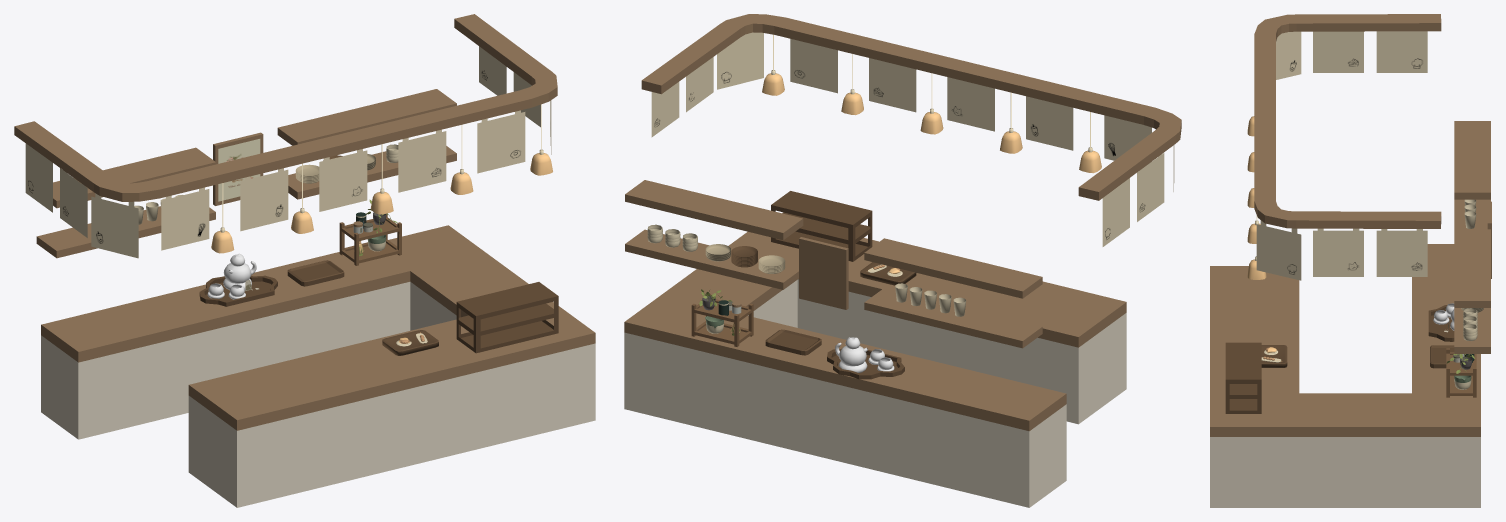
Rendered from counter.fbx.
3 renders of one model, left to right at view 1: azimuth 30°, elevation 25°; view 2: azimuth 150°, elevation 25°; view 3: azimuth 270°, elevation 25°, orthographic. The views are drawn at different scales.
Parts seen in each view (by area): view 1: counter, cloth, wooden fixture, shelf, display shelf, lamps, picture frame, rack, cloud tray, main tray, tray, bowl; view 2: counter, cloth, shelf, wooden fixture, display shelf, picture frame, lamps, rack, plates, cups, main tray, cloud tray (+3 smaller); view 3: counter, cloth, wooden fixture, shelf, display shelf, rack, lamps, cloud tray, bowls, tray, main tray, cups.
Boxes of the visible parts, x1=… form: counter: x1=41, y1=225, x2=595, y2=507; cloth: x1=25, y1=46, x2=551, y2=258; wooden fixture: x1=14, y1=14, x2=557, y2=201; shelf: x1=36, y1=89, x2=456, y2=258; display shelf: x1=456, y1=282, x2=558, y2=353; lamps: x1=211, y1=104, x2=552, y2=253; picture frame: x1=213, y1=132, x2=263, y2=205; rack: x1=339, y1=214, x2=401, y2=265; cloud tray: x1=199, y1=275, x2=277, y2=306; main tray: x1=287, y1=260, x2=344, y2=286; tray: x1=382, y1=330, x2=438, y2=355; bowl: x1=223, y1=253, x2=256, y2=289; counter: x1=624, y1=232, x2=1126, y2=507; cloth: x1=651, y1=32, x2=1174, y2=246; shelf: x1=625, y1=180, x2=1042, y2=348; wooden fixture: x1=641, y1=14, x2=1181, y2=200; display shelf: x1=771, y1=191, x2=872, y2=261; picture frame: x1=799, y1=237, x2=848, y2=309; lamps: x1=762, y1=34, x2=1101, y2=173; rack: x1=691, y1=293, x2=753, y2=346; plates: x1=705, y1=244, x2=785, y2=273; cups: x1=895, y1=283, x2=966, y2=316; main tray: x1=765, y1=329, x2=821, y2=355; cloud tray: x1=827, y1=348, x2=904, y2=379; counter: x1=1210, y1=244, x2=1480, y2=507; cloth: x1=1256, y1=31, x2=1427, y2=280; wooden fixture: x1=1254, y1=14, x2=1441, y2=228; shelf: x1=1454, y1=121, x2=1490, y2=353; display shelf: x1=1225, y1=342, x2=1261, y2=413; rack: x1=1446, y1=348, x2=1476, y2=397; lamps: x1=1247, y1=116, x2=1266, y2=279; cloud tray: x1=1428, y1=305, x2=1454, y2=341; bowls: x1=1463, y1=308, x2=1477, y2=341; tray: x1=1261, y1=345, x2=1287, y2=367; main tray: x1=1430, y1=345, x2=1454, y2=368; cups: x1=1464, y1=199, x2=1476, y2=228.
Size of the model in its own units: 1923 by 1253 by 1107.
